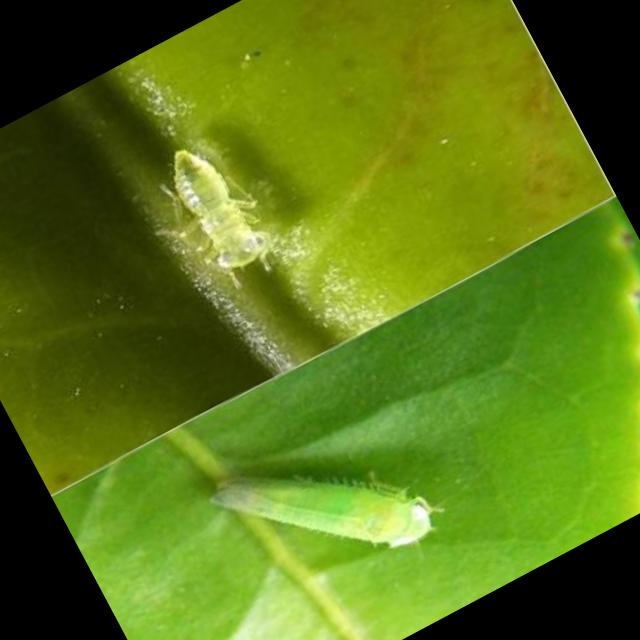green-leafhopper: (209, 391, 457, 620), (122, 111, 313, 314)
